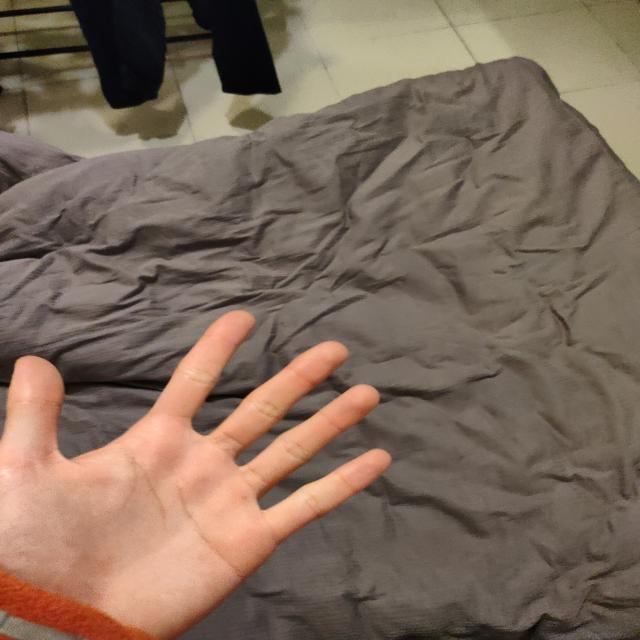hand: (0, 296, 427, 640)
